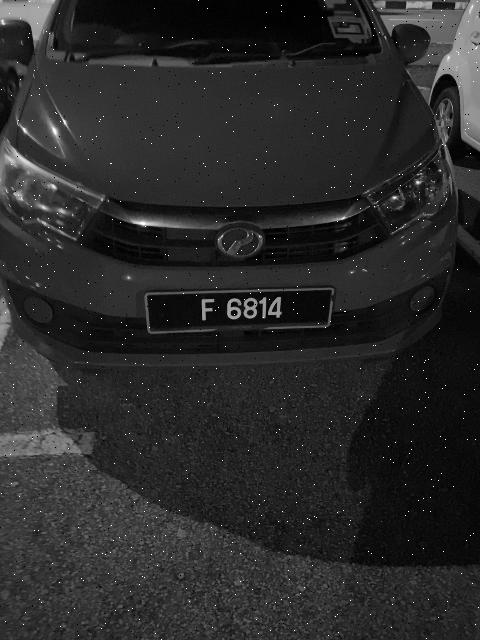License_Plate: (144, 287, 336, 338)
car: (1, 4, 480, 380)
